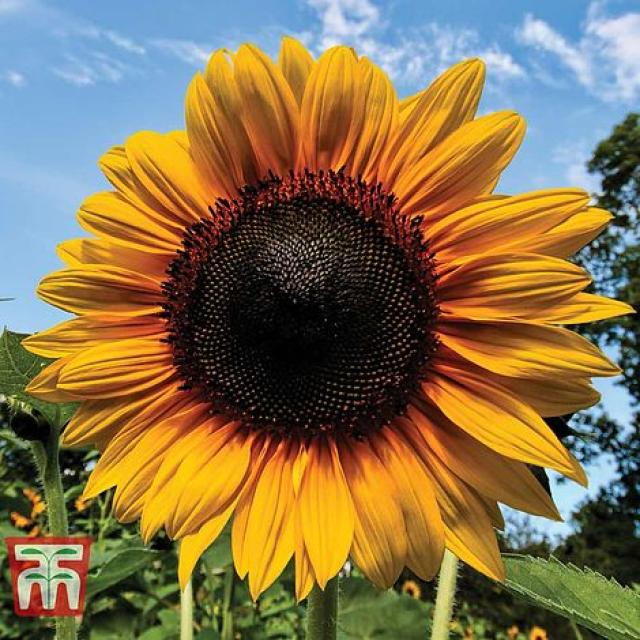sunflower: (15, 14, 640, 624)
